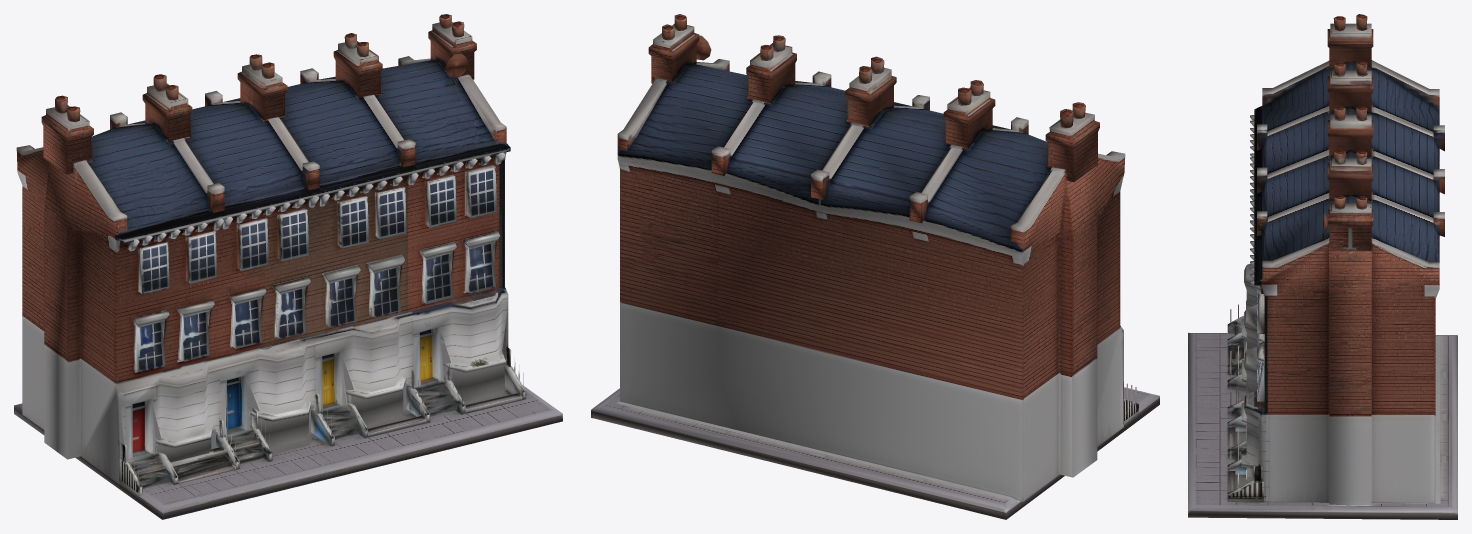
Rendered from terraced+house+3d+model.glb.
3 views of the same model, side by side, from view 1: azimuth 30°, elevation 25°; view 2: azimuth 150°, elevation 25°; view 3: azimuth 270°, elevation 25° (orthographic). The views are drawn at different scales.
Visible parts, largest first — view 1: tripo_node_0b1cf5b2-c3e9-4ab8-968e-cdf7ecca33af; view 2: tripo_node_0b1cf5b2-c3e9-4ab8-968e-cdf7ecca33af; view 3: tripo_node_0b1cf5b2-c3e9-4ab8-968e-cdf7ecca33af.
Boxes of the visible parts, x1=… form: tripo_node_0b1cf5b2-c3e9-4ab8-968e-cdf7ecca33af: x1=14, y1=14, x2=562, y2=519; tripo_node_0b1cf5b2-c3e9-4ab8-968e-cdf7ecca33af: x1=591, y1=14, x2=1159, y2=519; tripo_node_0b1cf5b2-c3e9-4ab8-968e-cdf7ecca33af: x1=1188, y1=14, x2=1457, y2=519.
Bounding box in the file's own units: 0.998 × 0.8105 × 0.6113.
Materials: 1 (1 with a texture image).
